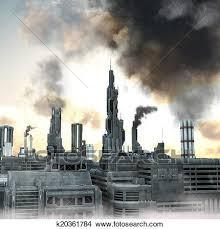smoke: (78, 6, 219, 111), (21, 0, 69, 113), (128, 98, 158, 128)
